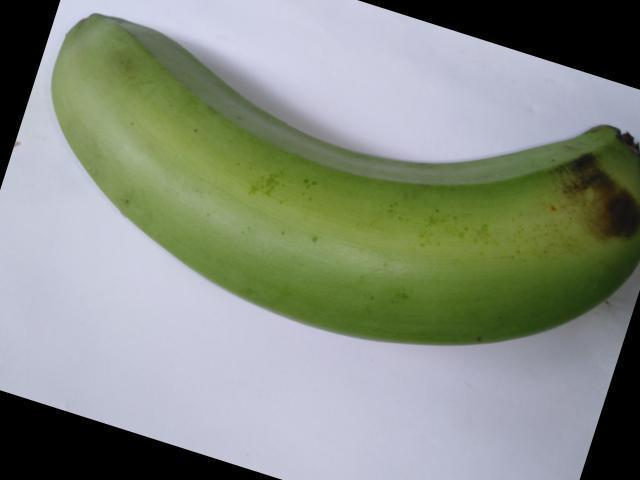freshunripe: (49, 5, 639, 362)
